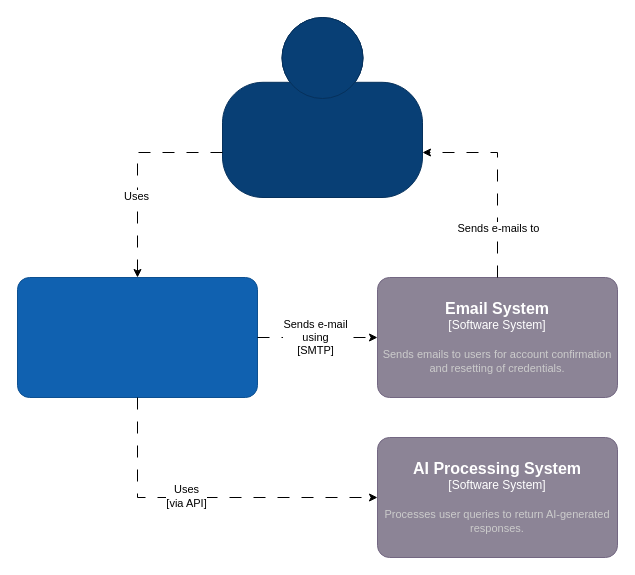
This 635x575 diagram has some shape labels left out. The shapes that lost their labels are listed below. From the top down, each one's box as (x1, y1, x2, y2) in pixels, then its label:
(222, 16, 422, 198): User [Person] Website user
(16, 276, 258, 398): RoT [Software System] RoT
